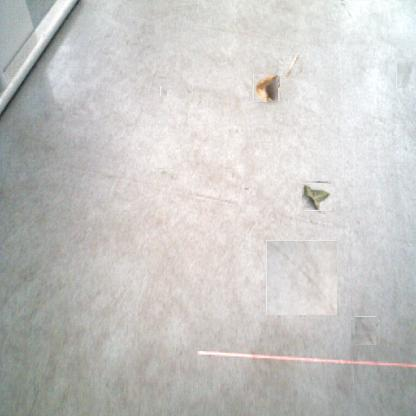dirty: (303, 182, 332, 210), (253, 75, 279, 102), (280, 56, 301, 76)
mark: (266, 240, 337, 315), (353, 318, 378, 344), (396, 58, 415, 88), (158, 168, 176, 180), (160, 86, 167, 96), (241, 184, 249, 192), (184, 86, 192, 94), (340, 0, 346, 6), (198, 100, 202, 108)
